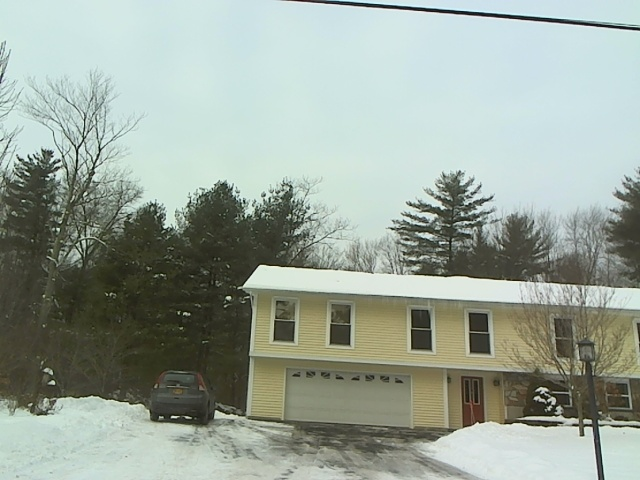Ploughed: (139, 415, 460, 478)
